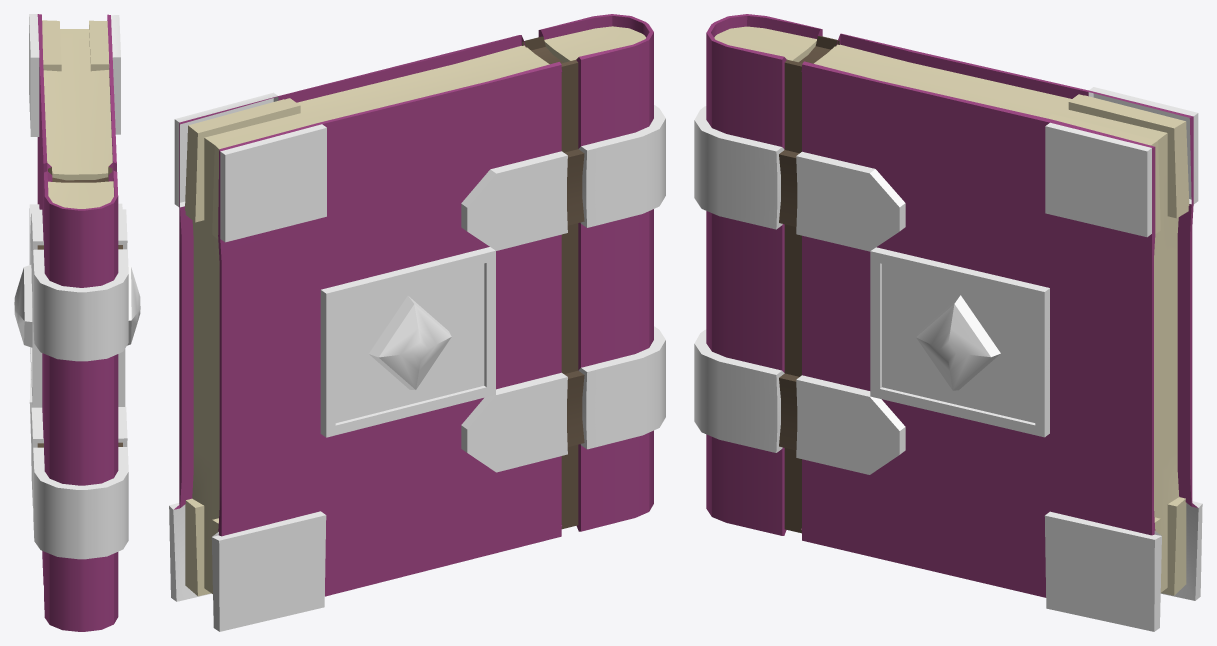
The model's file is Libro4.fbx.
The picture shows the model from 3 angles, left to right: view 1: azimuth 30°, elevation 25°; view 2: azimuth 150°, elevation 25°; view 3: azimuth 270°, elevation 25°; orthographic projection. The views are drawn at different scales.
Parts seen in each view (by area): view 1: Libro4; view 2: Libro4; view 3: Libro4.
Boxes of the visible parts, <box> form: Libro4: <box>14,14,140,631</box>; Libro4: <box>169,14,665,631</box>; Libro4: <box>694,14,1202,631</box>.
Size of the model in its own units: 63.97 by 102 by 96.71.
